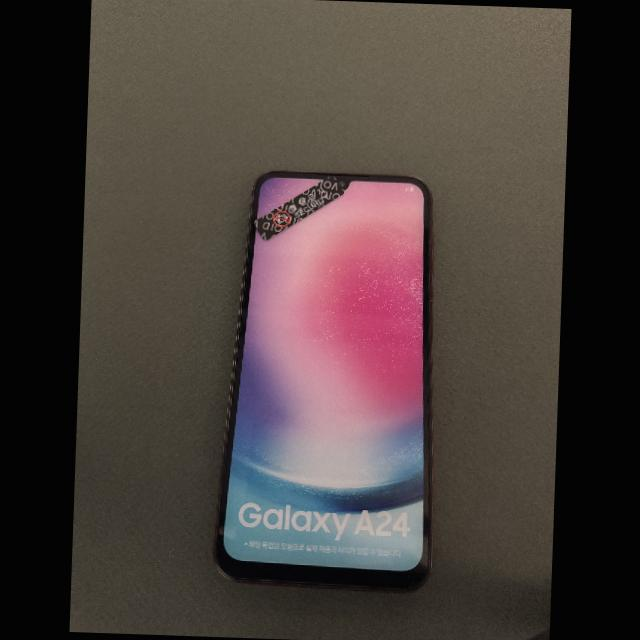lens: (339, 181, 344, 186)
phone: (214, 171, 432, 590)
sticker: (253, 175, 344, 240)
